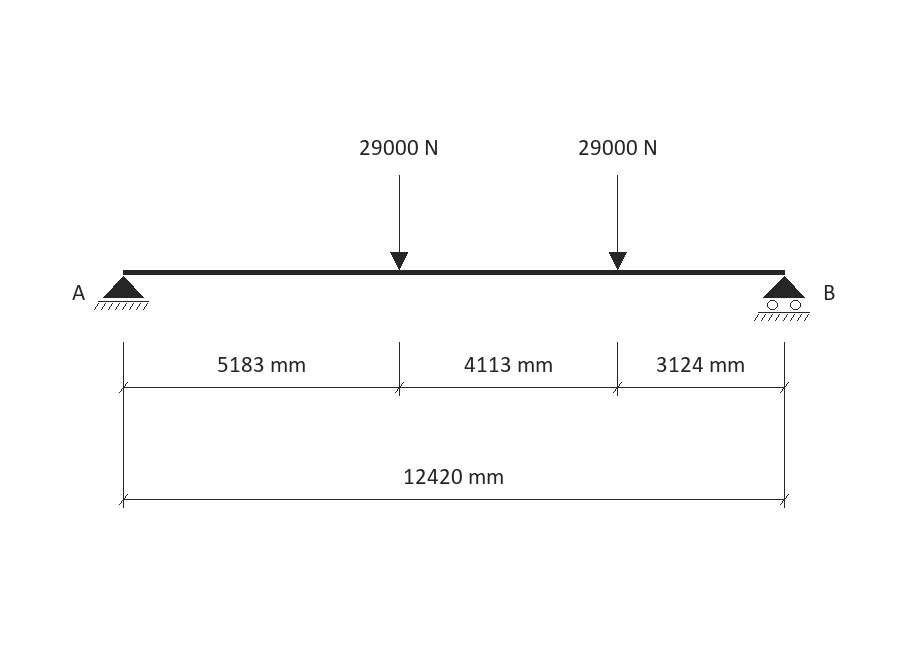pin_support: (94, 276, 149, 310)
point_load: (390, 175, 408, 270), (609, 175, 627, 270)
roller_support: (754, 276, 810, 321)
